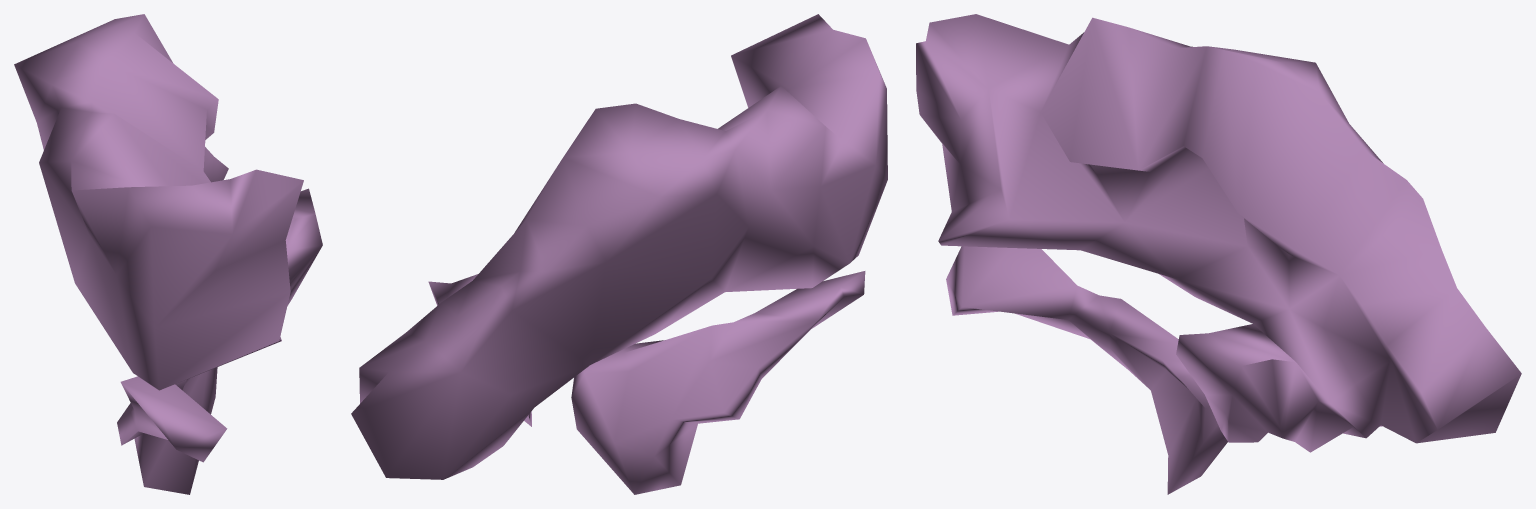
The picture shows the model from 3 angles, left to right: view 1: azimuth 30°, elevation 25°; view 2: azimuth 150°, elevation 25°; view 3: azimuth 270°, elevation 25°; orthographic projection. The views are drawn at different scales.
Parts seen in each view (by area): view 1: 左侧扣带回后腹侧部; view 2: 左侧扣带回后腹侧部; view 3: 左侧扣带回后腹侧部.
Boxes of the visible parts, left/top/right/bottom form: 左侧扣带回后腹侧部: left=14, top=14, right=322, bottom=494; 左侧扣带回后腹侧部: left=351, top=14, right=887, bottom=494; 左侧扣带回后腹侧部: left=916, top=14, right=1521, bottom=494.
Size of the model in its own units: 0.024 by 0.03 by 0.0381.
